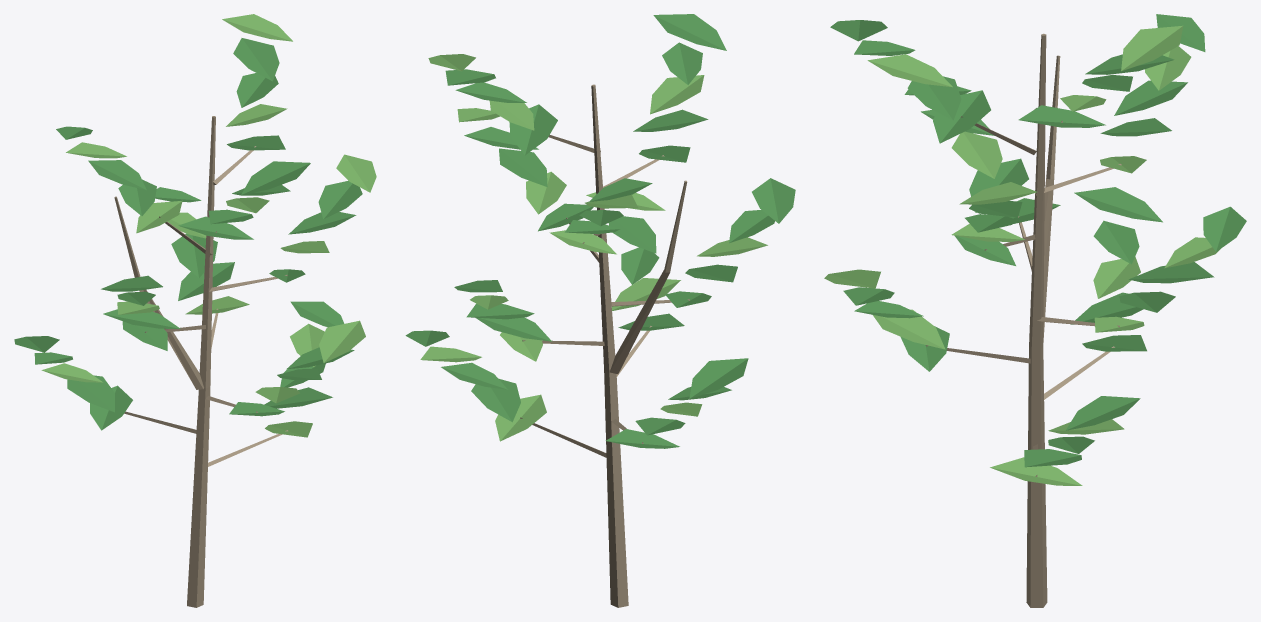
File: birch_sapling_02.glb
3 renders of one model, left to right at view 1: azimuth 30°, elevation 25°; view 2: azimuth 150°, elevation 25°; view 3: azimuth 270°, elevation 25°, orthographic. The views are drawn at different scales.
Parts seen in each view (by area): view 1: Birch_sapling_02; view 2: Birch_sapling_02; view 3: Birch_sapling_02.
Part boxes in pixels (<box>): Birch_sapling_02: <box>14,14,376,607</box>; Birch_sapling_02: <box>405,14,795,607</box>; Birch_sapling_02: <box>824,14,1246,607</box>.
Bounding box in the file's own units: 1.53 × 2.4 × 1.46.
